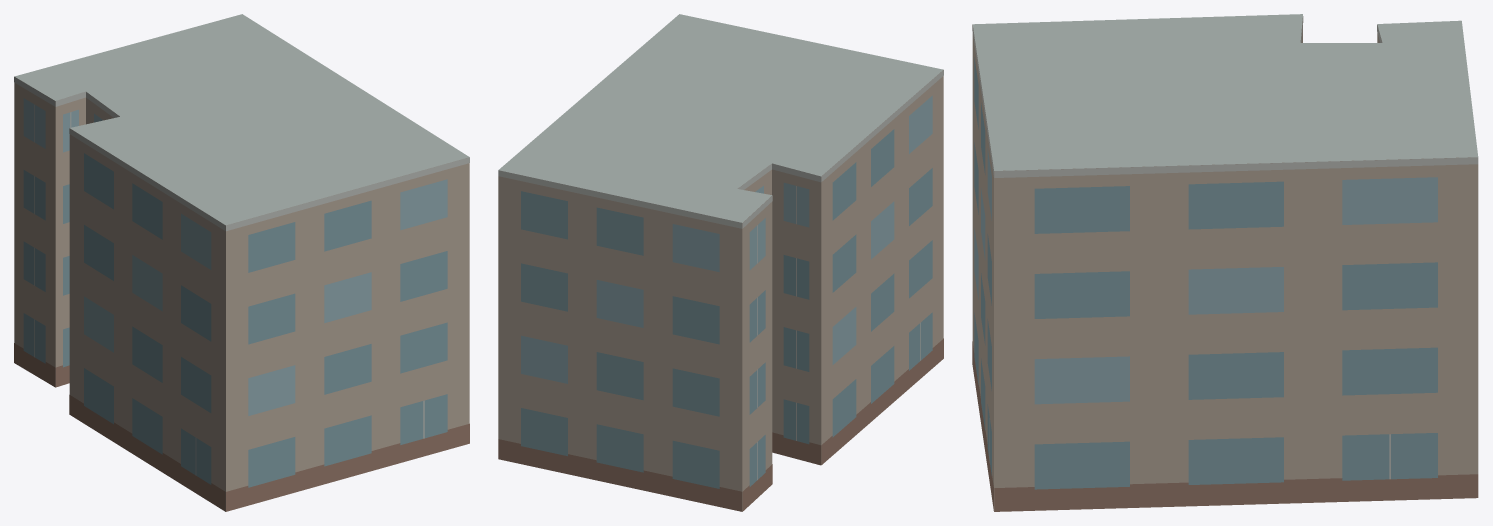
File: survey-upis-32673285.glb
3 renders of one model, left to right at view 1: azimuth 30°, elevation 25°; view 2: azimuth 150°, elevation 25°; view 3: azimuth 270°, elevation 25°, orthographic. The views are drawn at different scales.
Parts seen in each view (by area): view 1: survey-upis-32673285.tmp; view 2: survey-upis-32673285.tmp; view 3: survey-upis-32673285.tmp.
Part boxes in pixels (bbox=[...]): survey-upis-32673285.tmp: bbox=[14, 14, 469, 511]; survey-upis-32673285.tmp: bbox=[498, 14, 943, 511]; survey-upis-32673285.tmp: bbox=[972, 14, 1478, 511].
Size of the model in its own units: 11.64 by 11.77 by 15.84.
